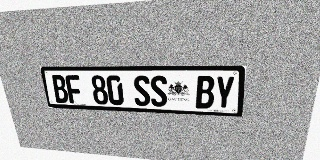0: (106, 75, 124, 105)
8: (90, 75, 109, 105)
B: (196, 76, 215, 109), (51, 75, 69, 103)
F: (65, 75, 83, 104)
S: (133, 75, 151, 106), (150, 76, 168, 107)
Y: (214, 76, 235, 110)
